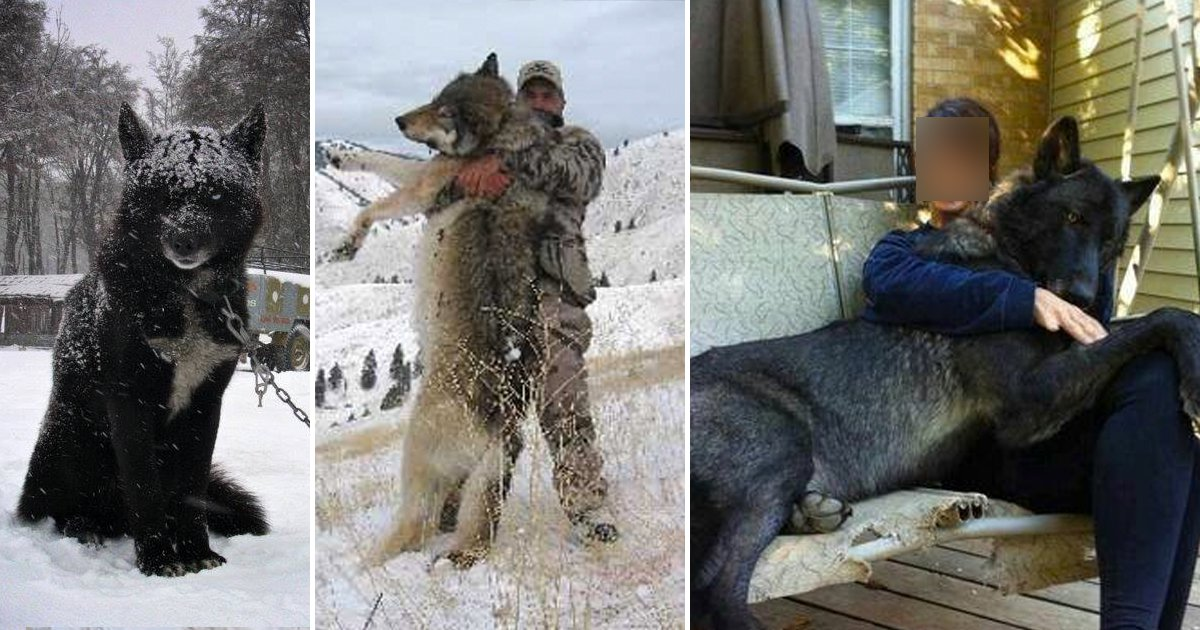Lobo: (772, 89, 1152, 517), (318, 48, 589, 554), (49, 79, 283, 600)
